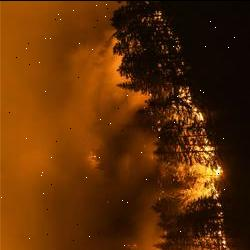fire: (160, 91, 230, 219)
